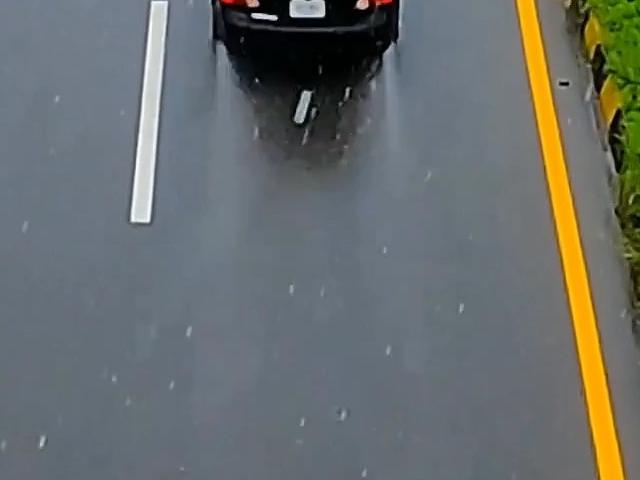car: (211, 0, 416, 91)
